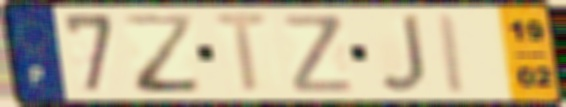7: (61, 11, 118, 96)
I: (434, 11, 470, 97)
J: (375, 12, 430, 95)
T: (209, 10, 276, 97)
Z: (120, 12, 206, 96), (279, 12, 358, 95)
